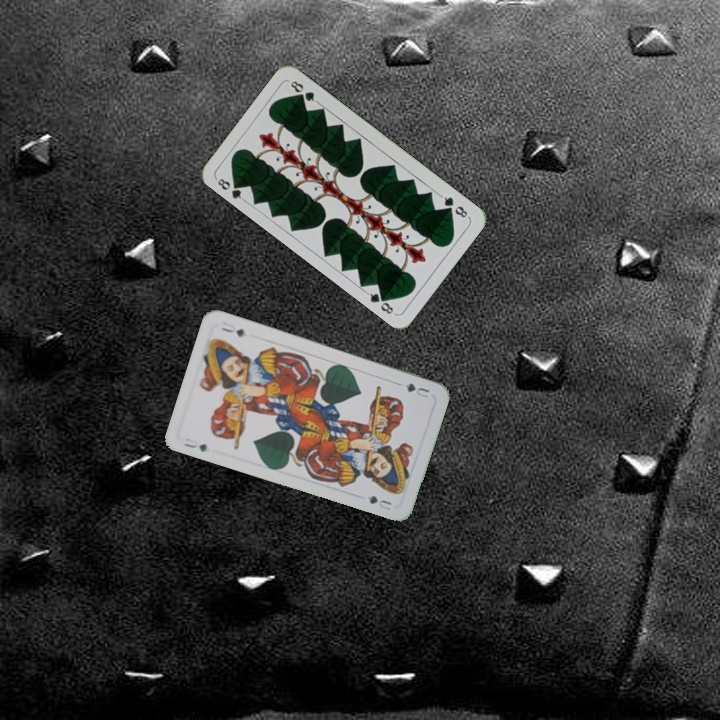G8: (212, 174, 247, 204), (437, 191, 471, 220)
GU: (400, 379, 432, 400), (180, 434, 210, 454)
